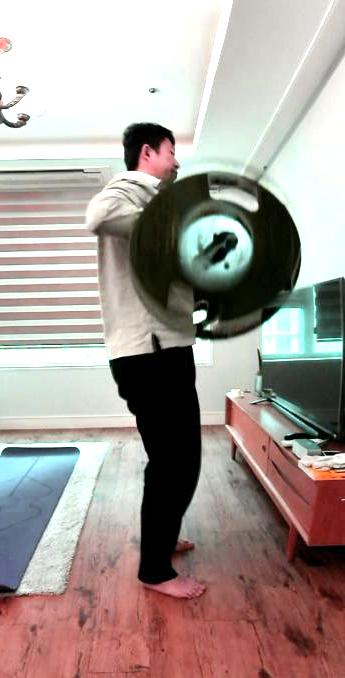Barbell: (213, 232, 237, 253)
